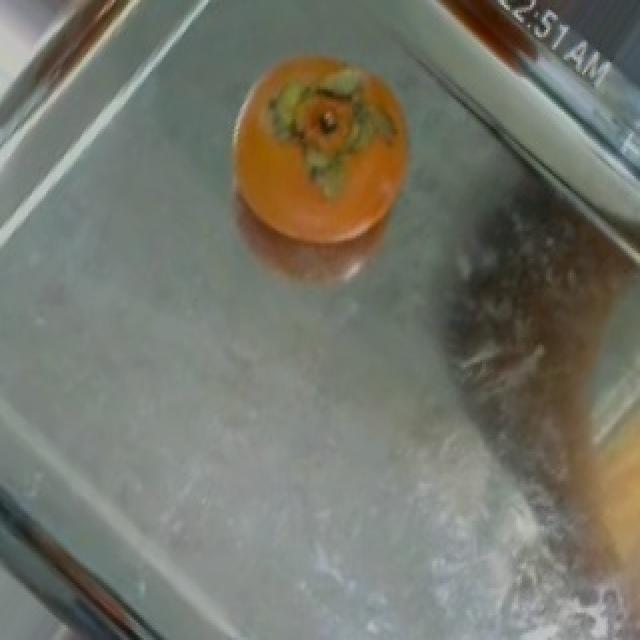Fruit: (210, 42, 432, 318)
